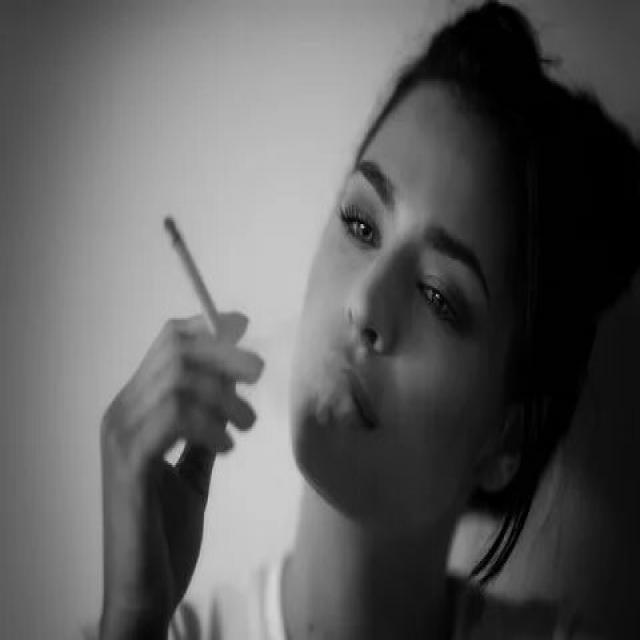cigarette: (160, 211, 227, 350)
